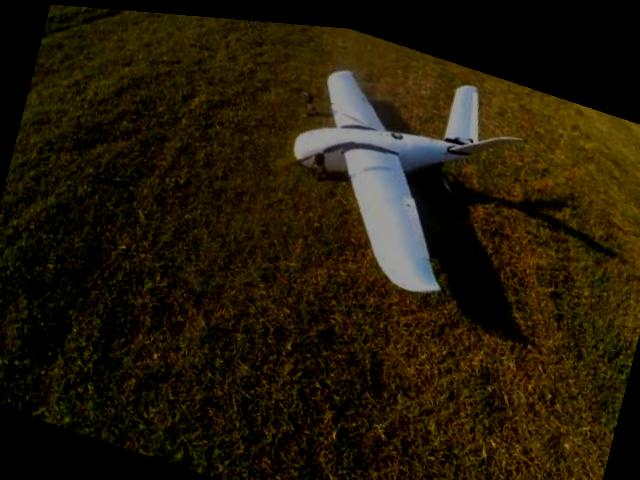uav: (244, 16, 546, 324)
